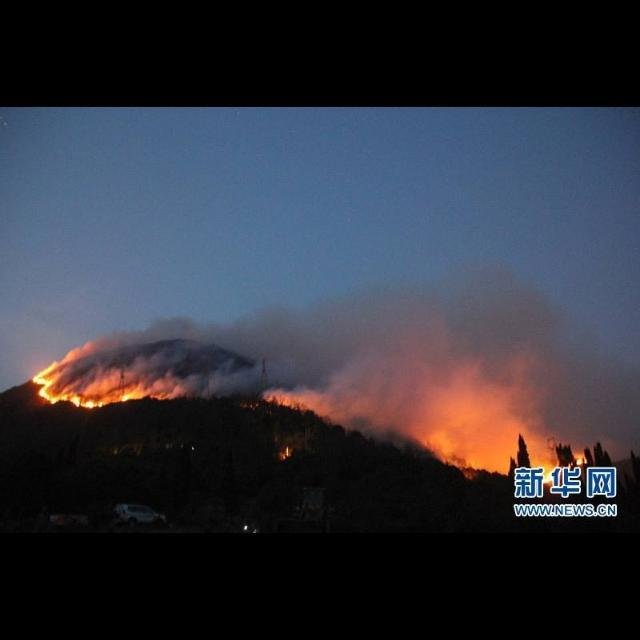Fire: (32, 362, 136, 410), (542, 463, 554, 483), (573, 452, 589, 466)
Smoke: (332, 291, 635, 434), (130, 295, 340, 398), (67, 324, 125, 385)
